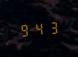four: (32, 20, 44, 36)
nine: (18, 21, 30, 37)
three: (45, 19, 57, 35)
